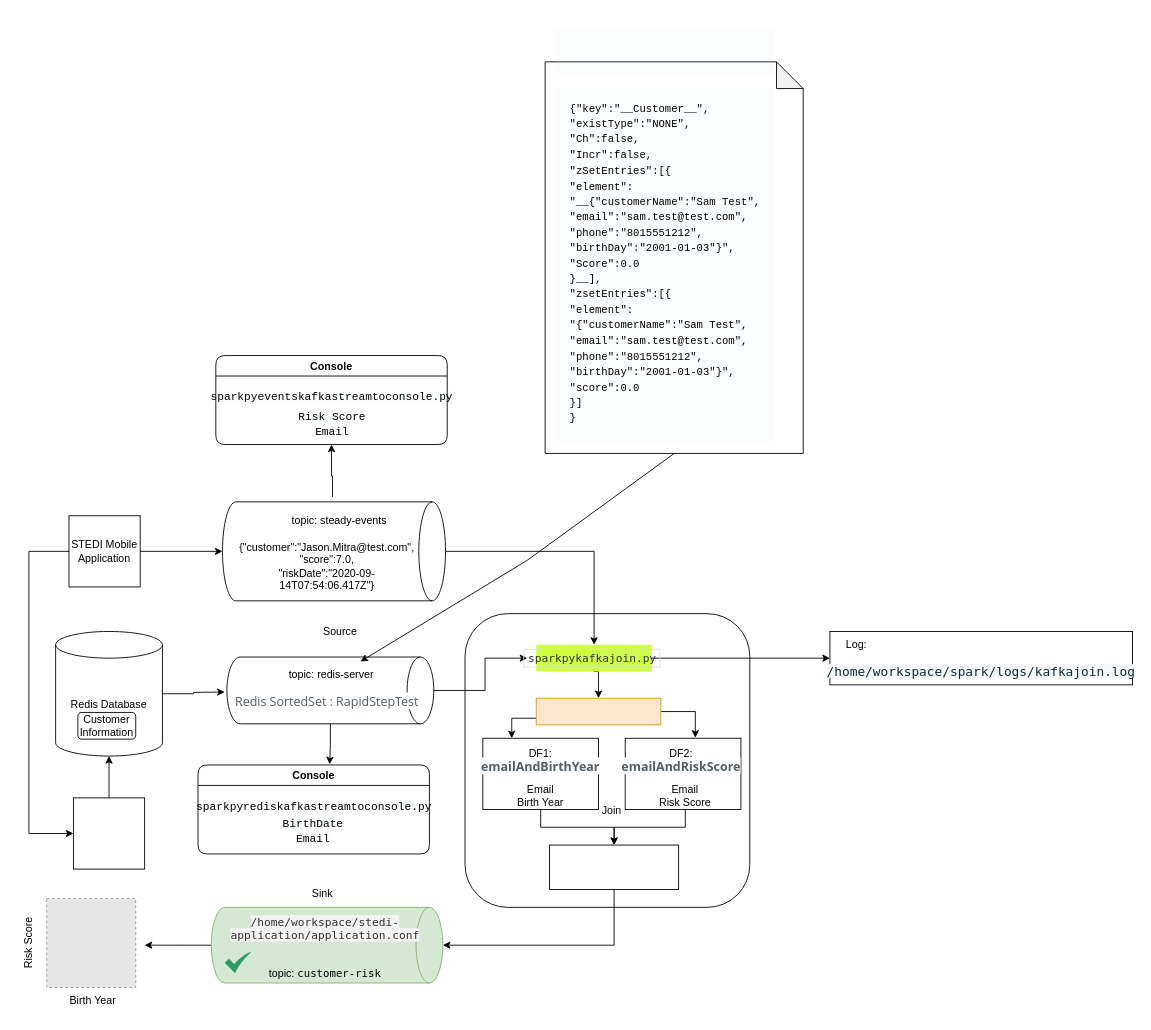
Some shapes in this 1151 by 1030 pixel diagram are drawn without their labels. Grey dashed boxes stand in for pictures. Each missing label, with the centre of its shape:
"DF3: riskScoreByBirthYear" belongs at (614,867).
"parse JSON and decode Base64 encoded data" belongs at (598,711).
"Real-time data source" belongs at (109,833).
